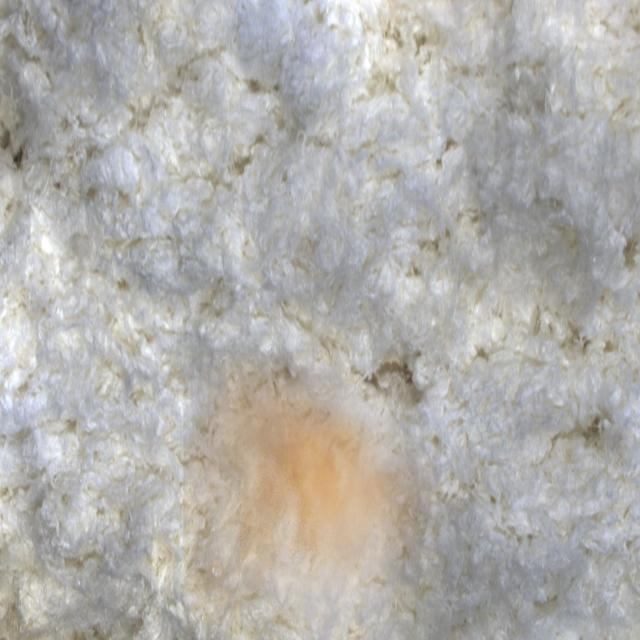dust: (184, 350, 442, 640)
